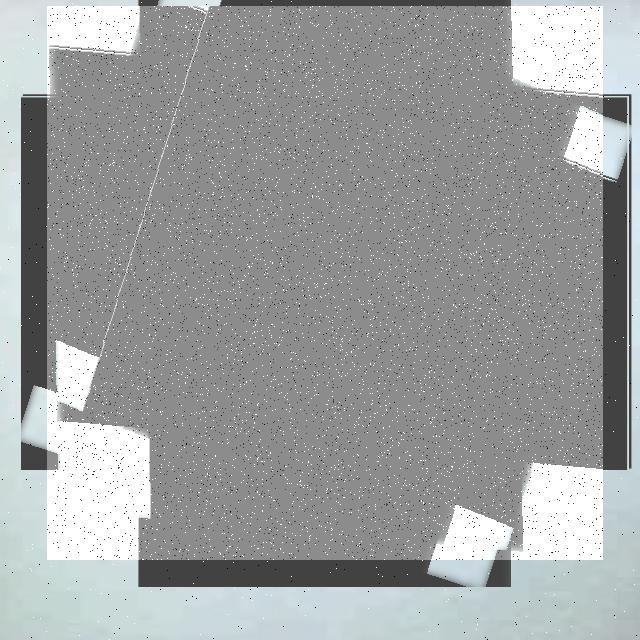lima puluh ribu rupiah: (47, 6, 603, 560)
